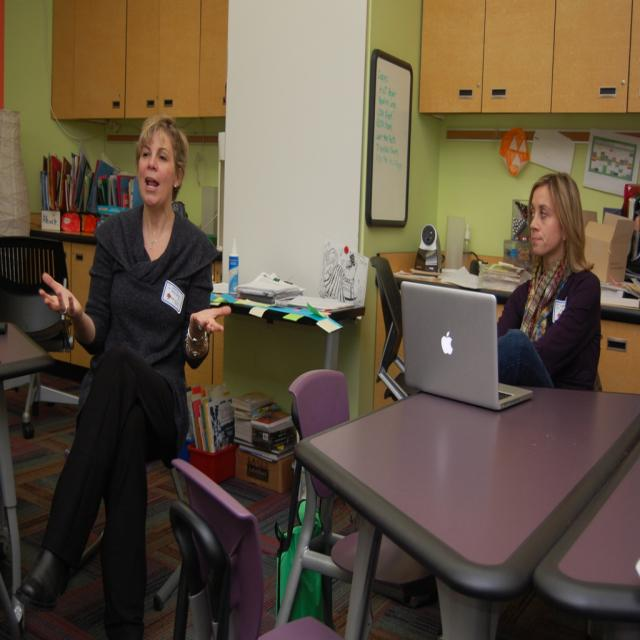chair: (276, 368, 437, 634), (168, 458, 268, 636), (371, 254, 405, 400)
desk: (296, 382, 640, 640)
laptop: (400, 279, 534, 415)
person: (18, 115, 220, 625), (496, 170, 602, 392)
